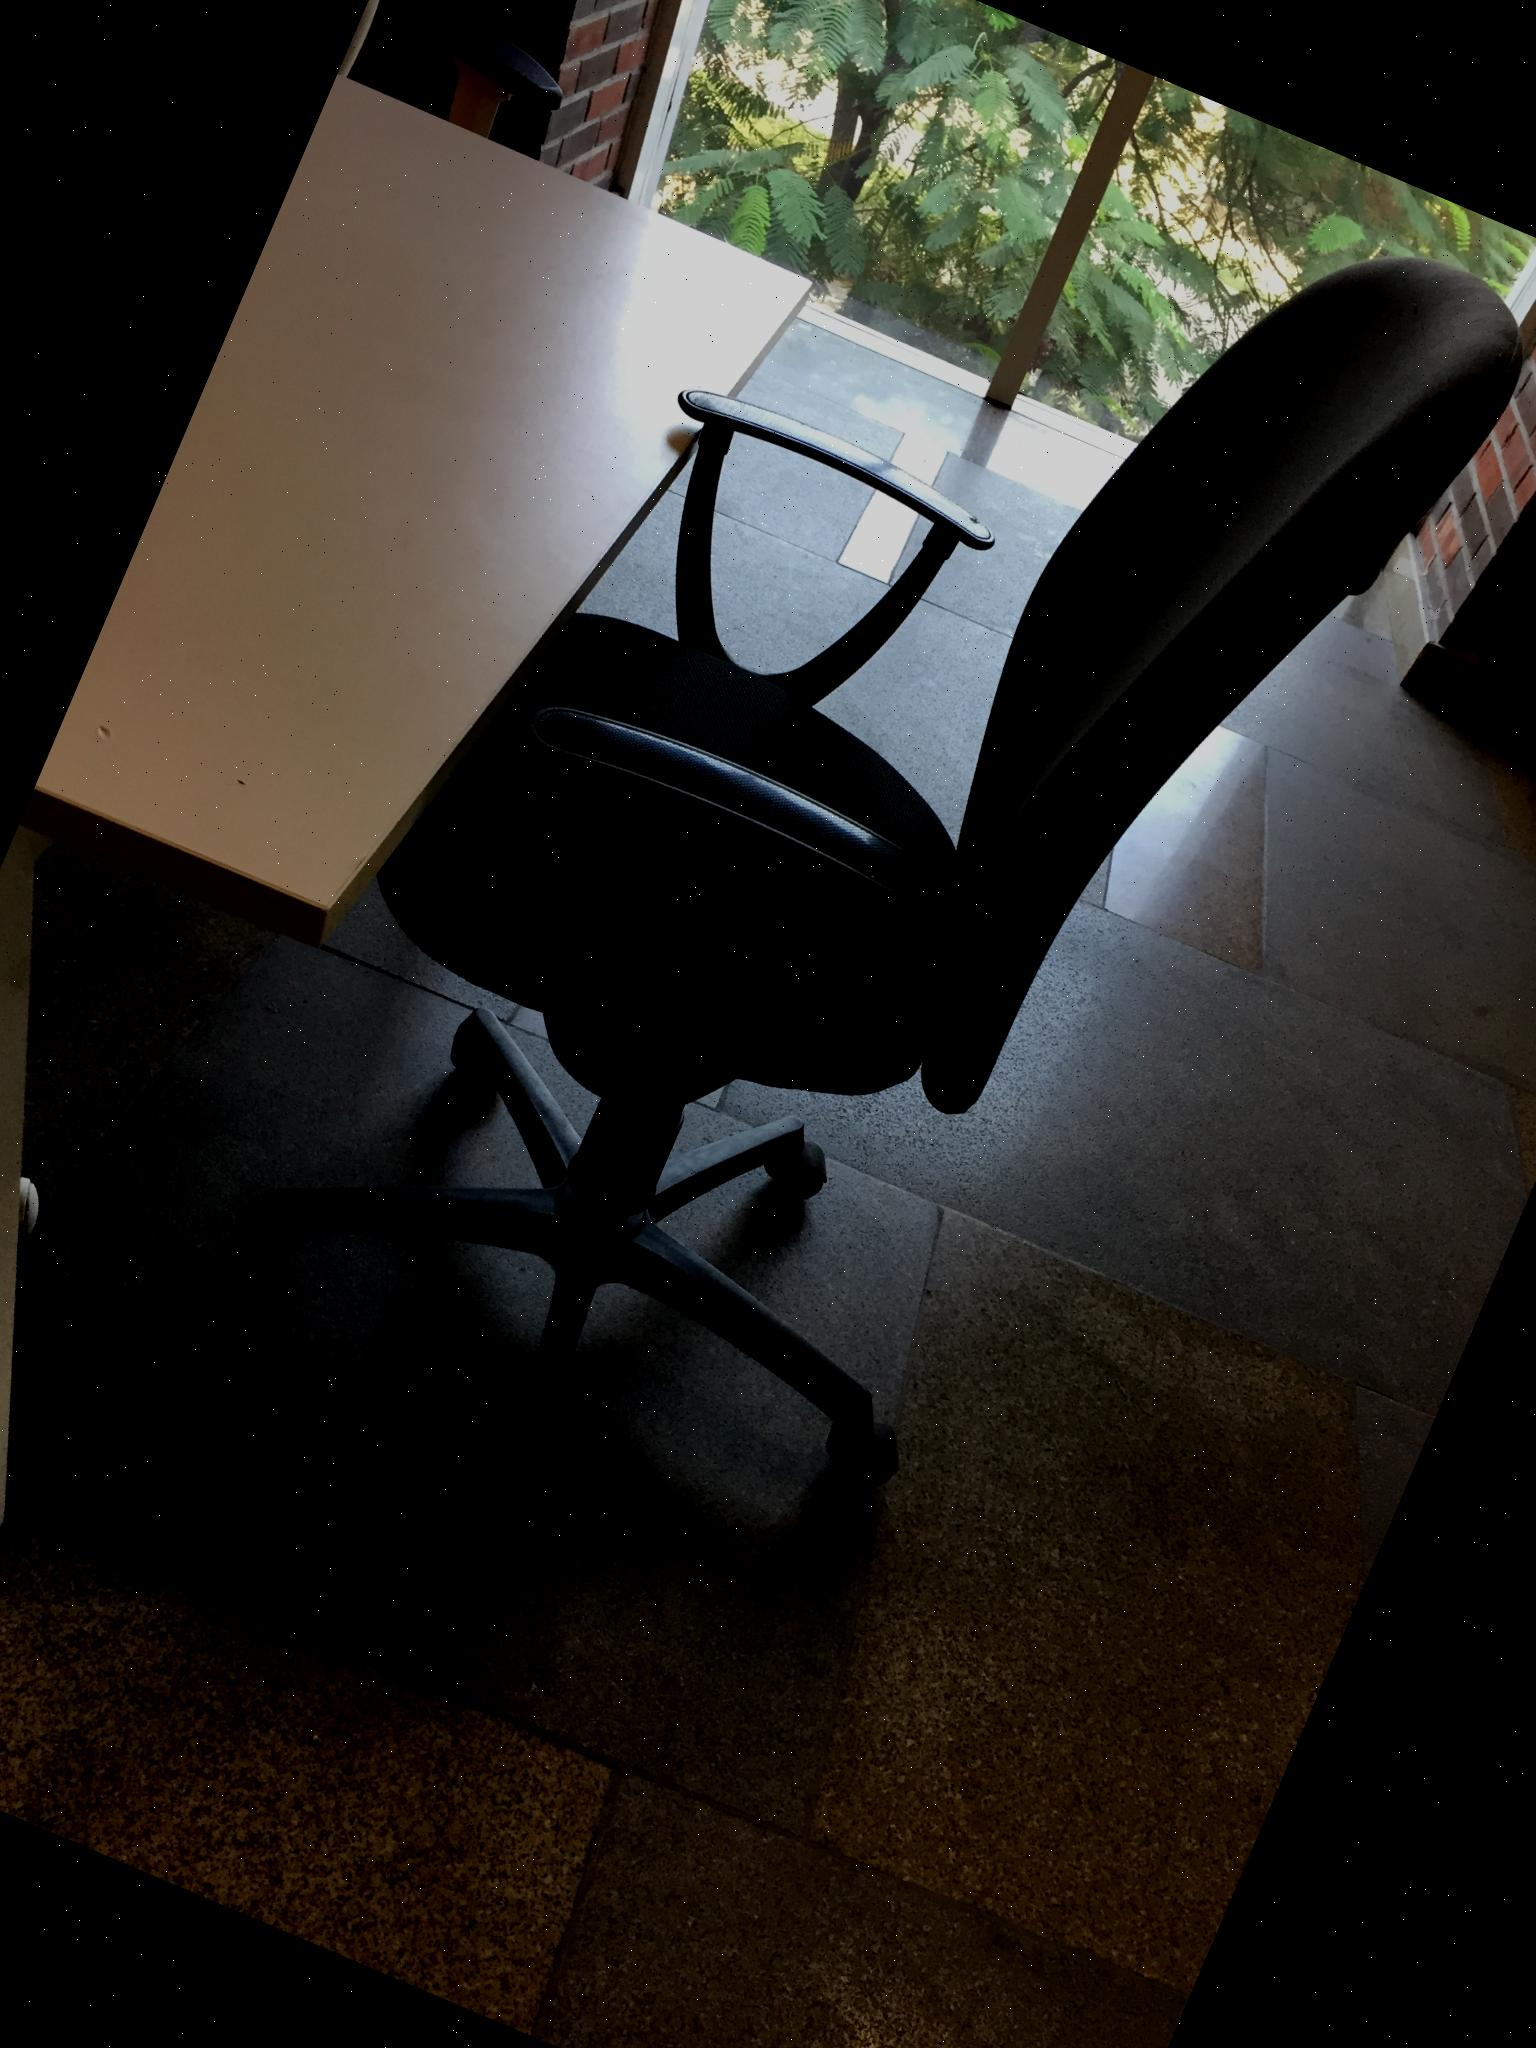chair: (137, 0, 1536, 1767)
